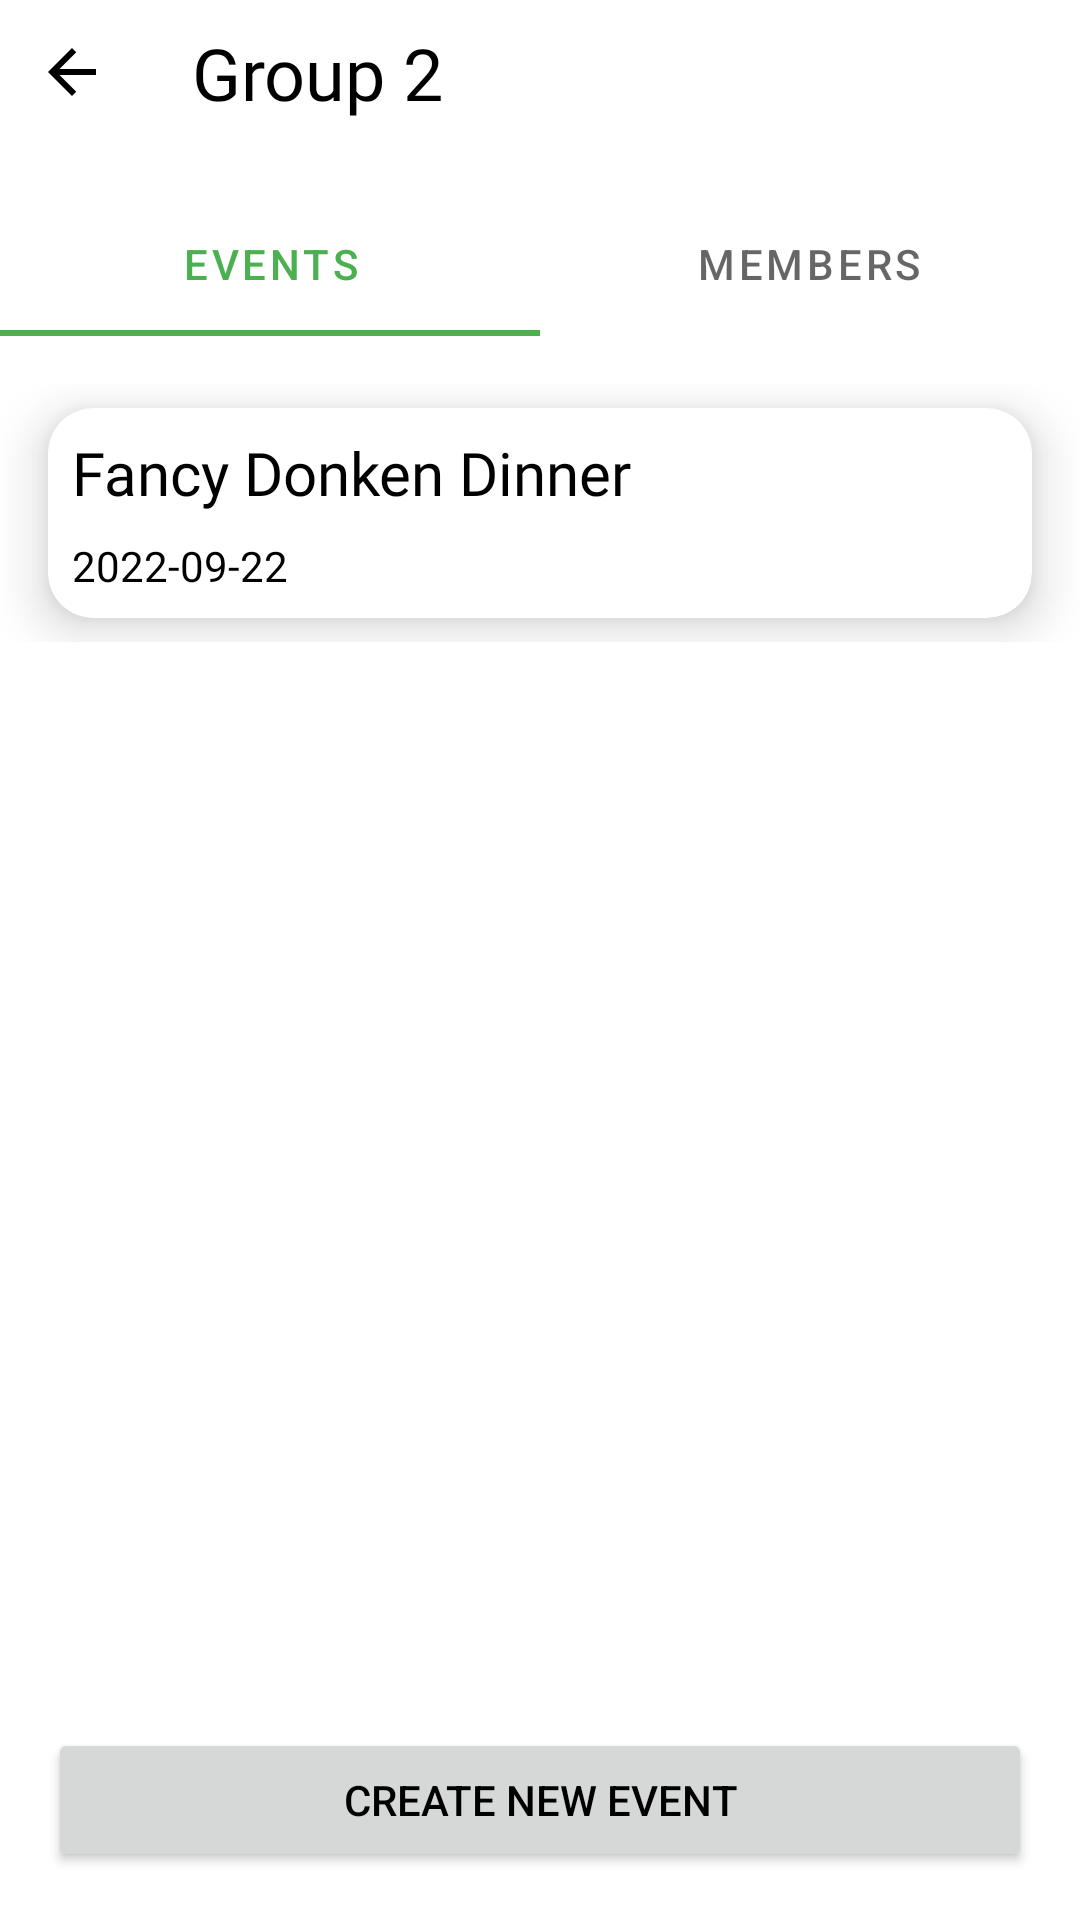

Screen size 1080px×1920px. Icon name, then its center in pixels as point (x, y):
Return Button: point (72, 72)
